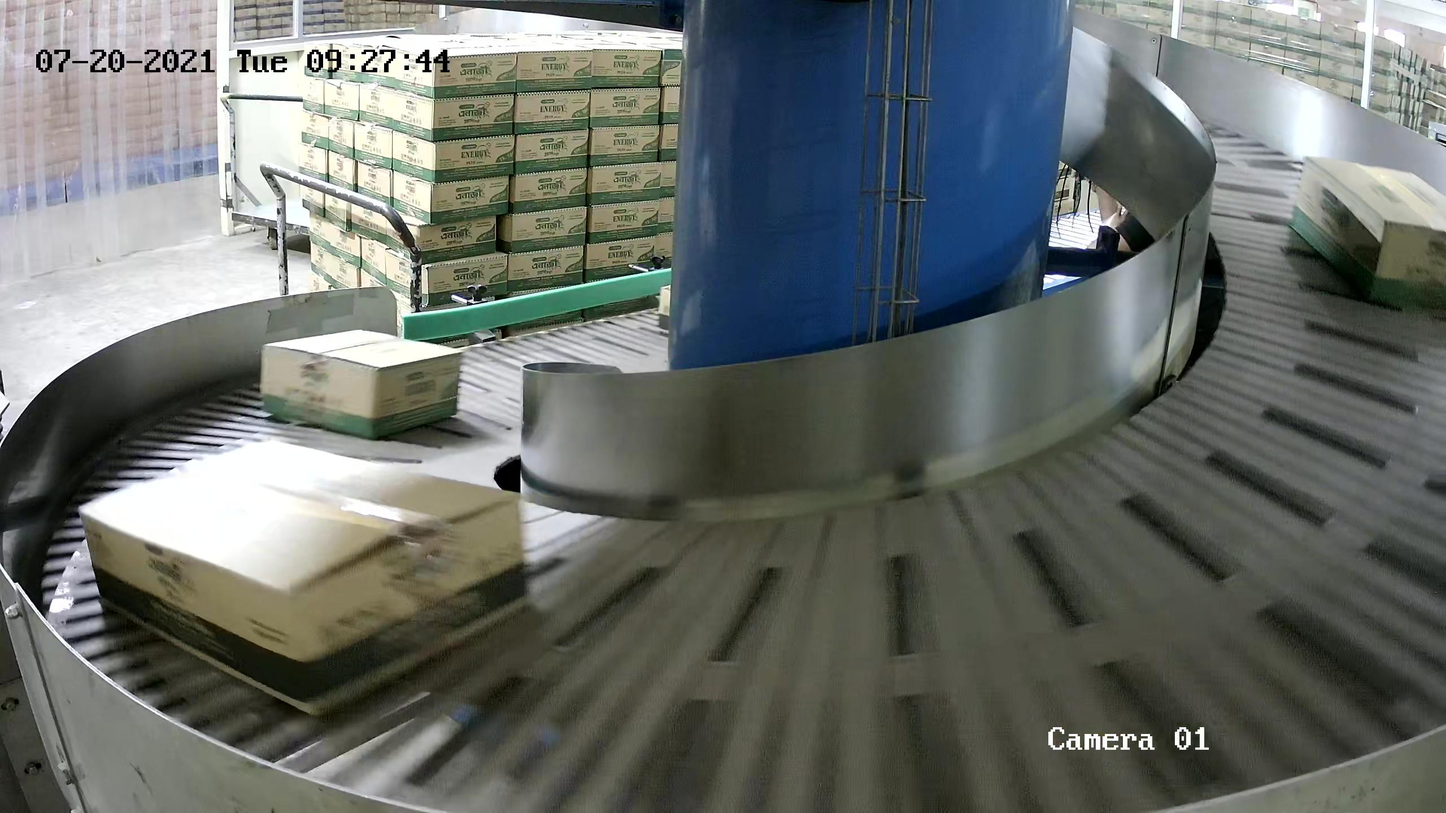Box: (76, 436, 532, 716), (1288, 154, 1446, 308), (259, 328, 466, 440)
